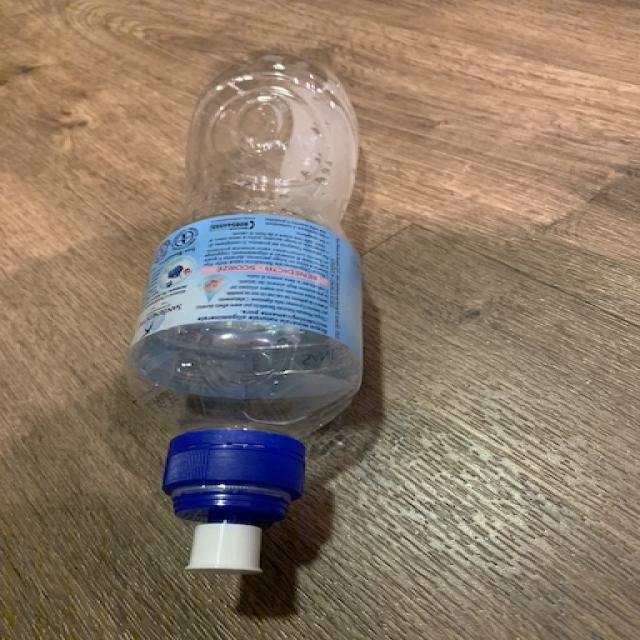Waste: (128, 55, 363, 574)
